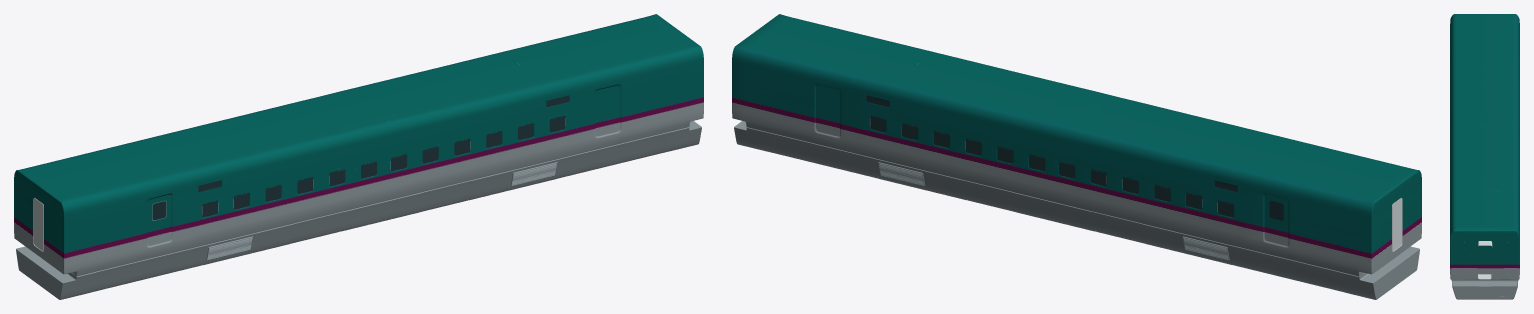
The model's file is supplied-middle.glb.
3 renders of one model, left to right at view 1: azimuth 30°, elevation 25°; view 2: azimuth 150°, elevation 25°; view 3: azimuth 270°, elevation 25°, orthographic. The views are drawn at different scales.
Parts seen in each view (by area): view 1: Supplied middle livery, Tinted glazing, Pearl fairings; view 2: Supplied middle livery, Tinted glazing, Pearl fairings; view 3: Supplied middle livery, Pearl fairings.
Boxes of the visible parts, x1=… form: Supplied middle livery: x1=14, y1=14, x2=703, y2=299; Tinted glazing: x1=152, y1=95, x2=569, y2=220; Pearl fairings: x1=33, y1=198, x2=43, y2=251; Supplied middle livery: x1=732, y1=14, x2=1421, y2=299; Tinted glazing: x1=866, y1=95, x2=1283, y2=220; Pearl fairings: x1=1392, y1=198, x2=1402, y2=251; Supplied middle livery: x1=1450, y1=14, x2=1519, y2=299; Pearl fairings: x1=1478, y1=241, x2=1492, y2=279.
Size of the model in its own units: 25.21 by 3.65 by 3.35.
Materials: 3 (1 with a texture image).
